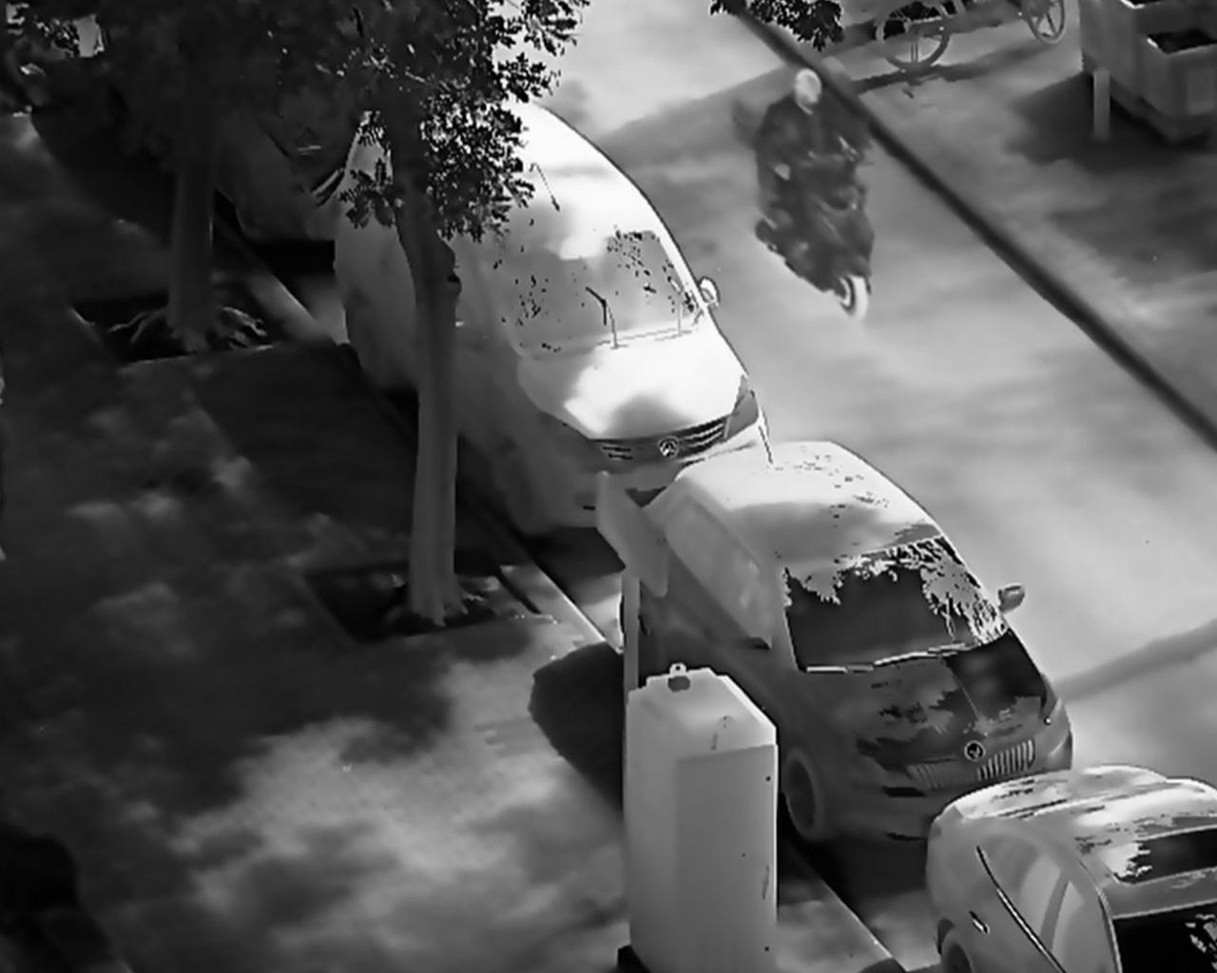person: (756, 66, 876, 235)
